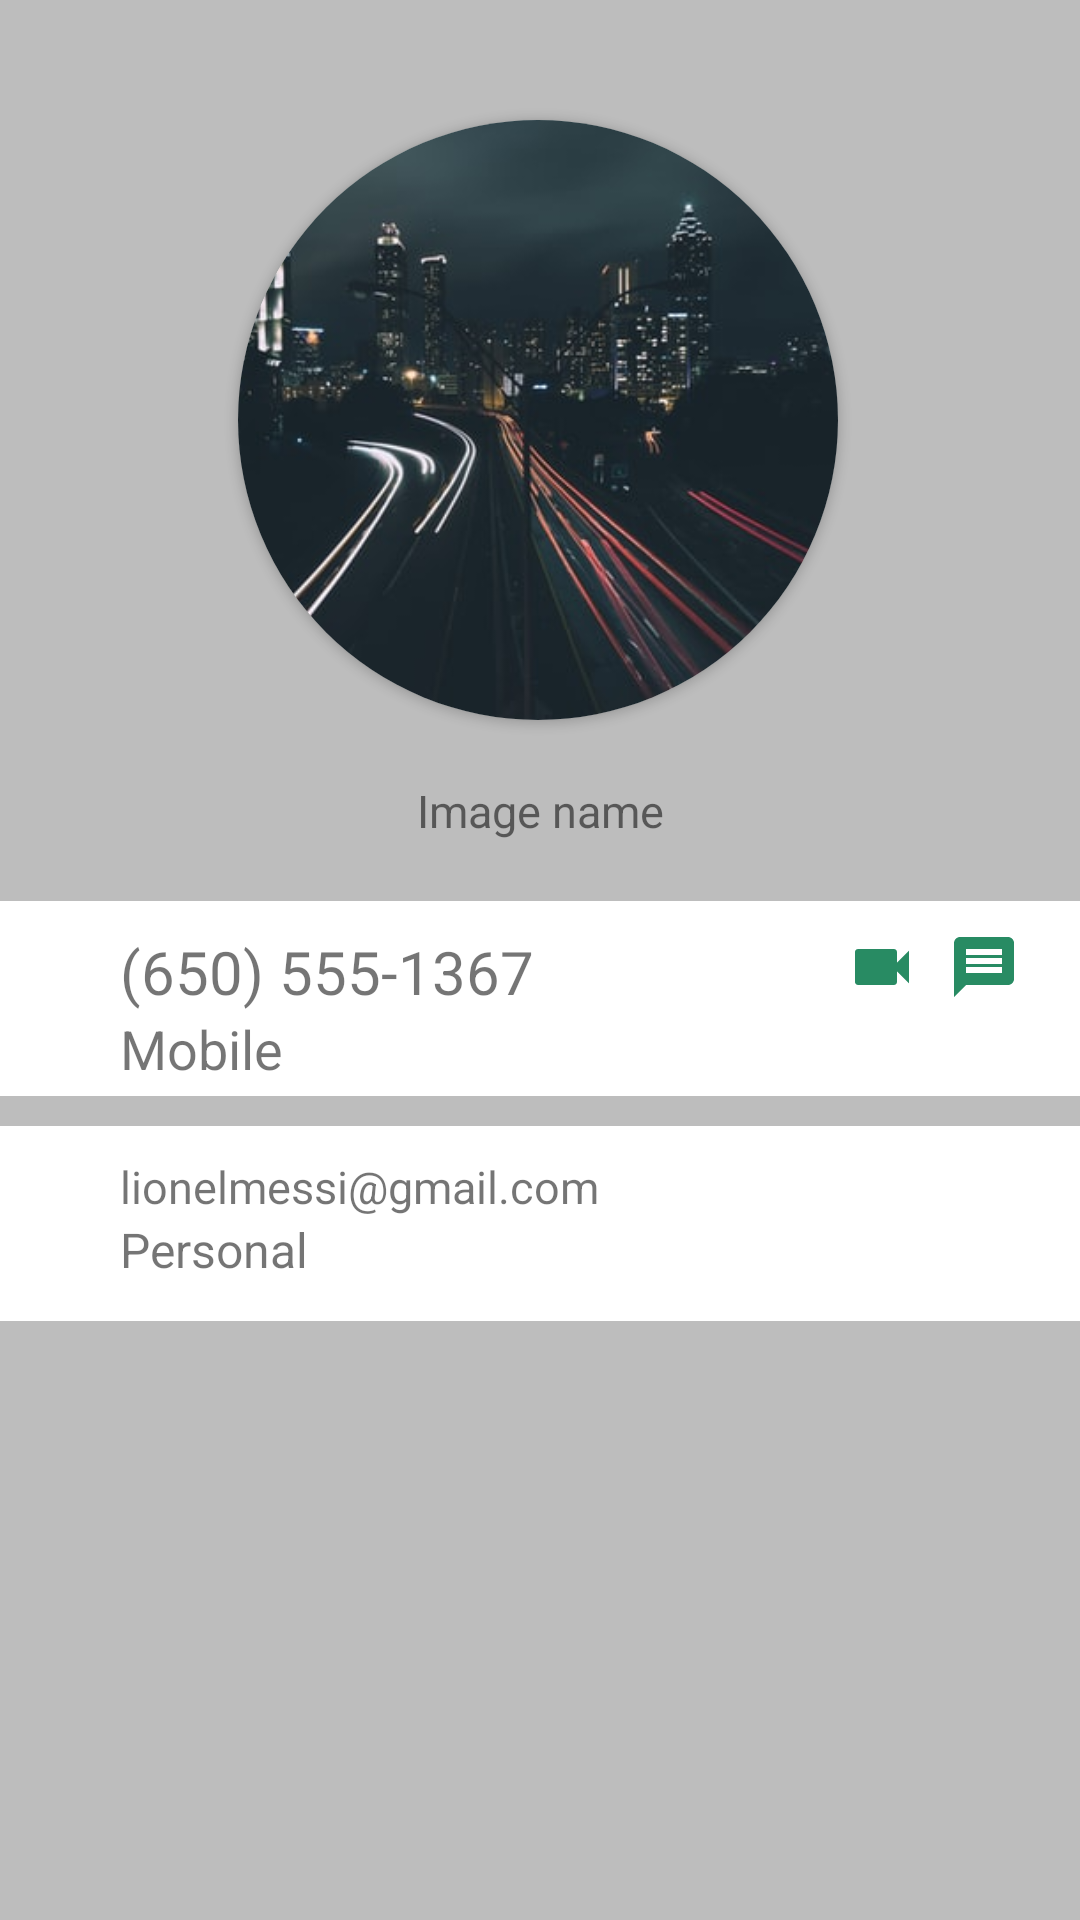

Where to tap for icons on this 1080 × 1920 app screen, as point (x, y):
message: point (984, 967)
videocam: point (882, 967)
